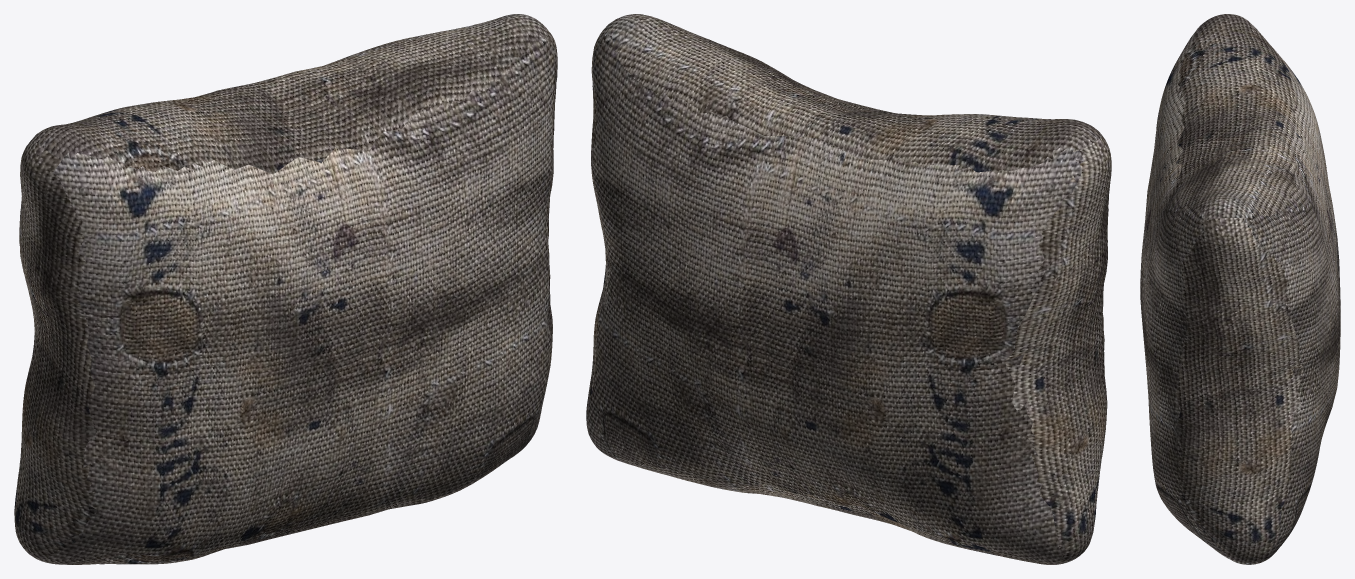
Rendered from cushion_olddirty.glb.
3 renders of one model, left to right at view 1: azimuth 30°, elevation 25°; view 2: azimuth 150°, elevation 25°; view 3: azimuth 270°, elevation 25°, orthographic. The views are drawn at different scales.
Parts seen in each view (by area): view 1: Object_2; view 2: Object_2; view 3: Object_2.
Boxes of the visible parts, x1=… form: Object_2: x1=14, y1=14, x2=557, y2=564; Object_2: x1=586, y1=14, x2=1111, y2=564; Object_2: x1=1140, y1=14, x2=1340, y2=564.
Size of the model in its own units: 1.29 by 1.06 by 0.5162.
Materials: 1 (1 with a texture image).
